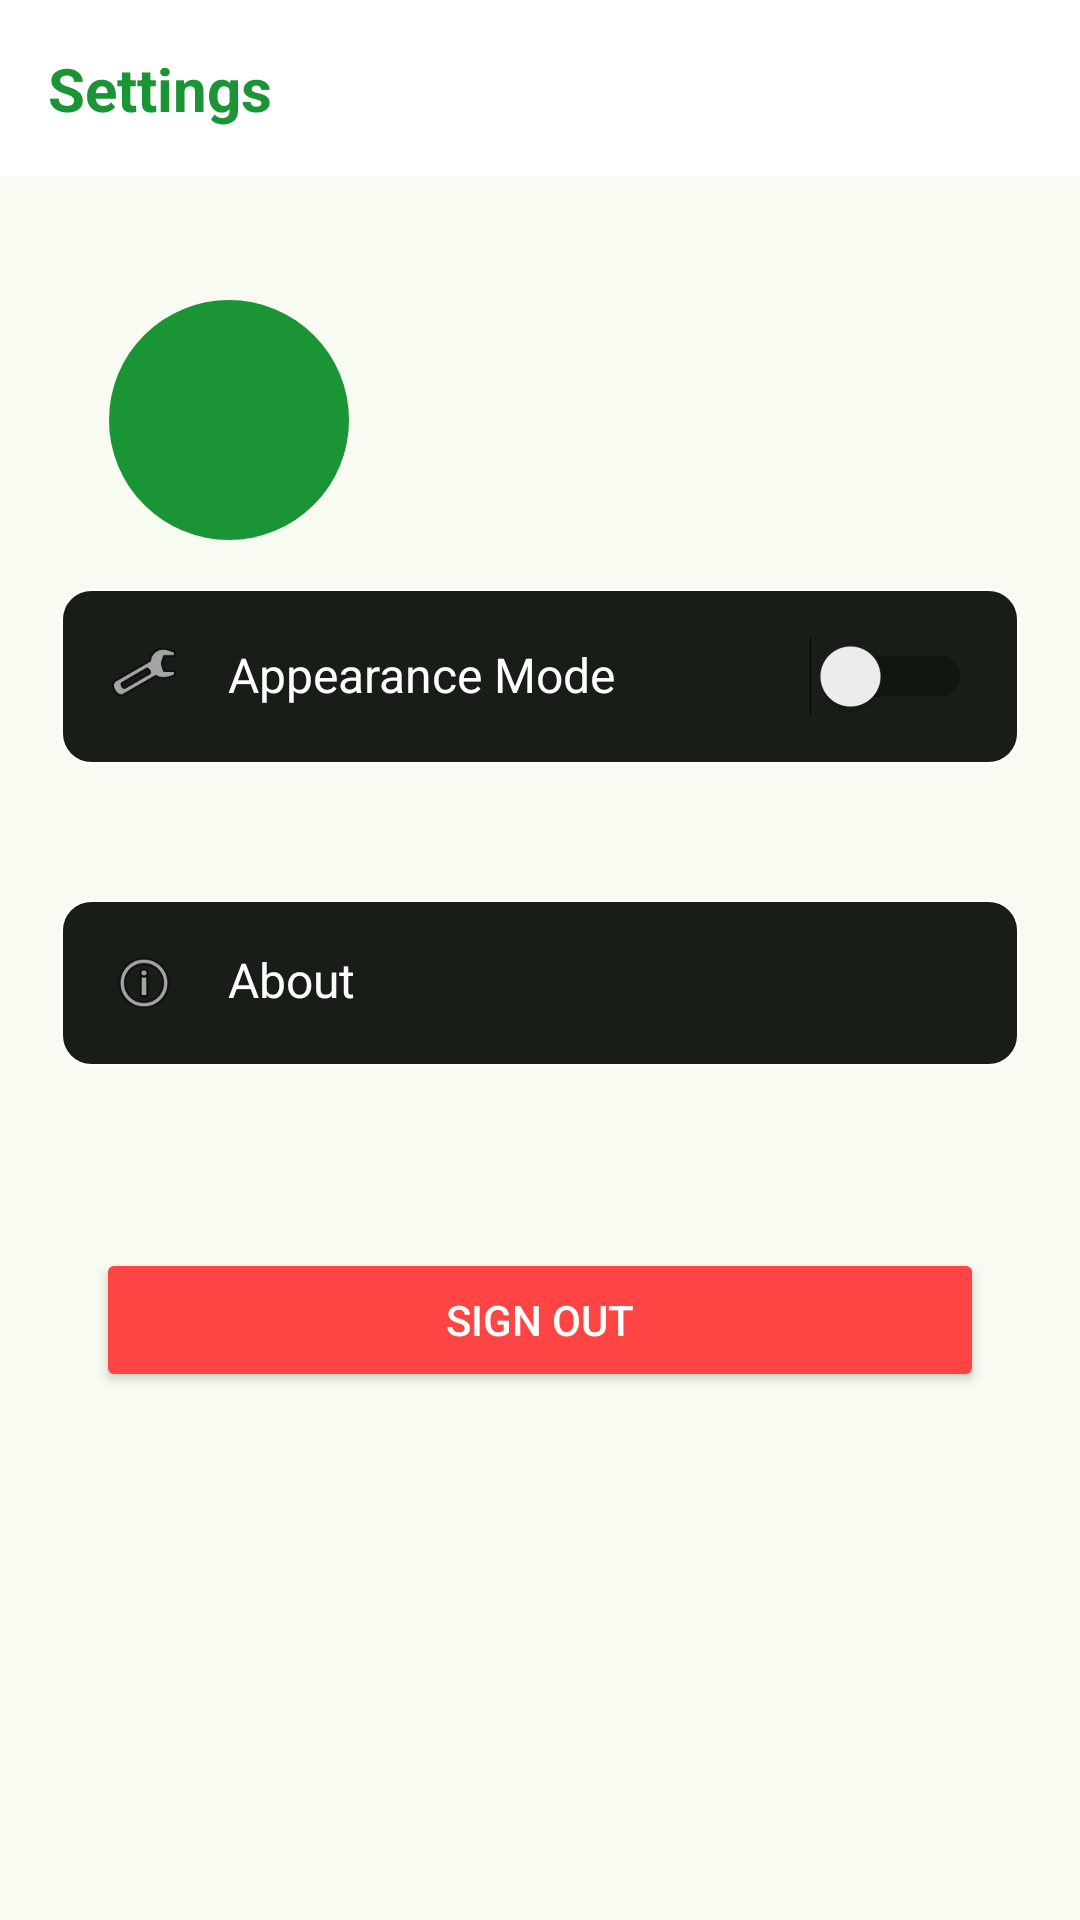

Icons on this 1080x1920 Android screen, each with the point to tap as [x,y]:
info details: [144,983]
manage: [144,672]
